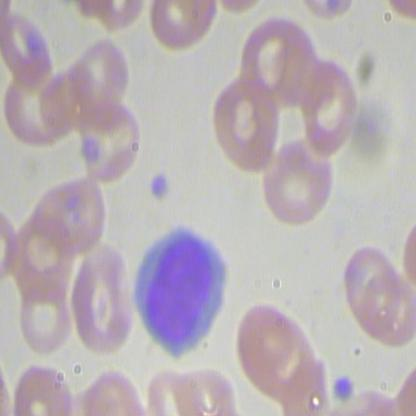Platelets: (146, 168, 174, 202), (332, 373, 357, 403)
RBC: (235, 298, 322, 401), (69, 244, 140, 354), (210, 75, 285, 174), (261, 132, 337, 224), (21, 174, 107, 254), (75, 96, 142, 185), (341, 238, 401, 335), (300, 59, 360, 154), (16, 265, 72, 355), (147, 1, 219, 55)
WBC: (125, 222, 236, 361)
